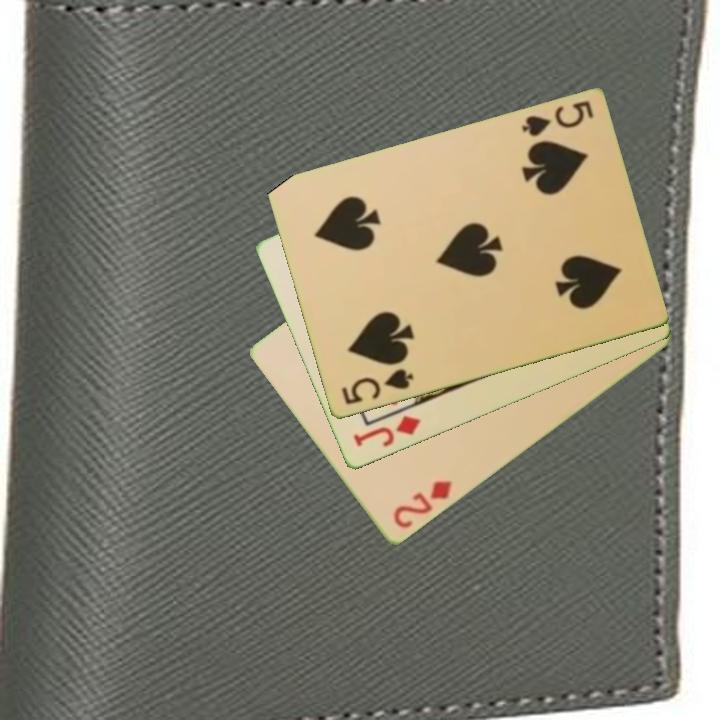2d: (389, 477, 455, 532)
5s: (337, 365, 416, 408), (517, 97, 596, 140)
Jd: (349, 412, 424, 451)
